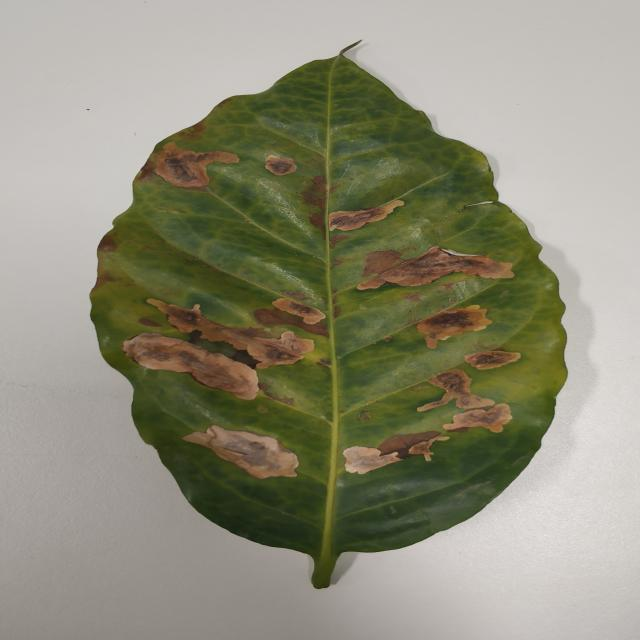Plaga-Minador: (88, 45, 568, 593)
